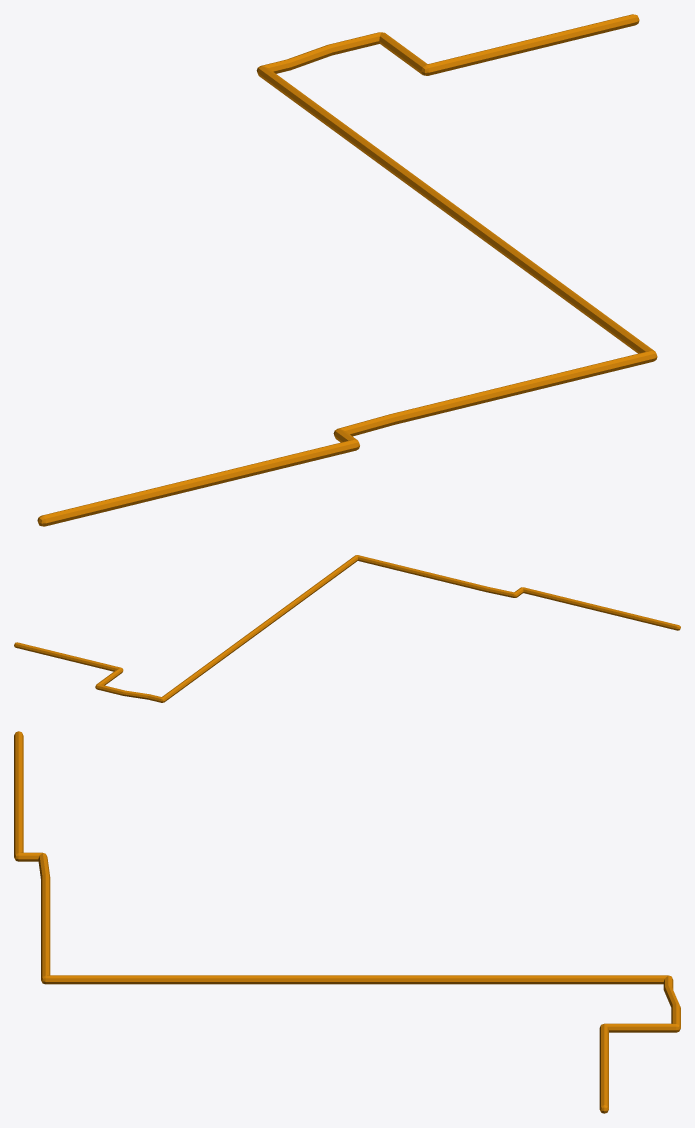
3 renders of one model, top to bottom at view 1: azimuth 30°, elevation 25°; view 2: azimuth 150°, elevation 25°; view 3: azimuth 270°, elevation 25°, orthographic. The views are drawn at different scales.
Bounding box in the file's own units: 1864 × 20 × 1392.
